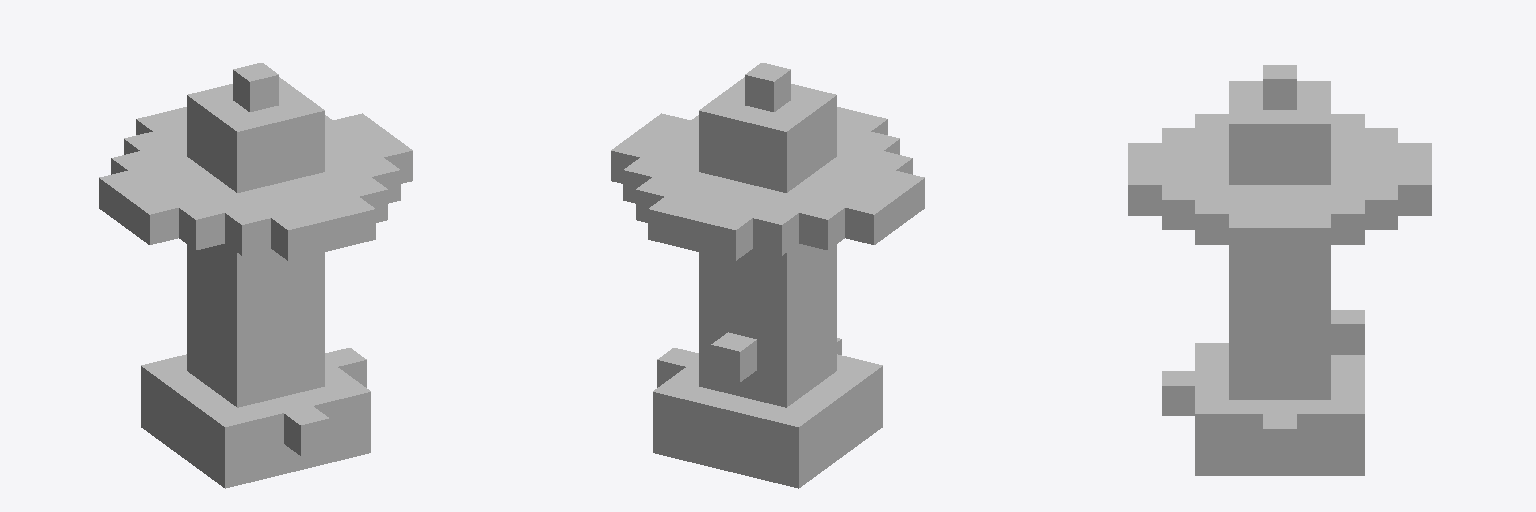
The model's file is flood_light.obj.
3 renders of one model, left to right at view 1: azimuth 30°, elevation 25°; view 2: azimuth 150°, elevation 25°; view 3: azimuth 270°, elevation 25°, orthographic.
Size of the model in its own units: 0.5625 by 0.75 by 0.5625.